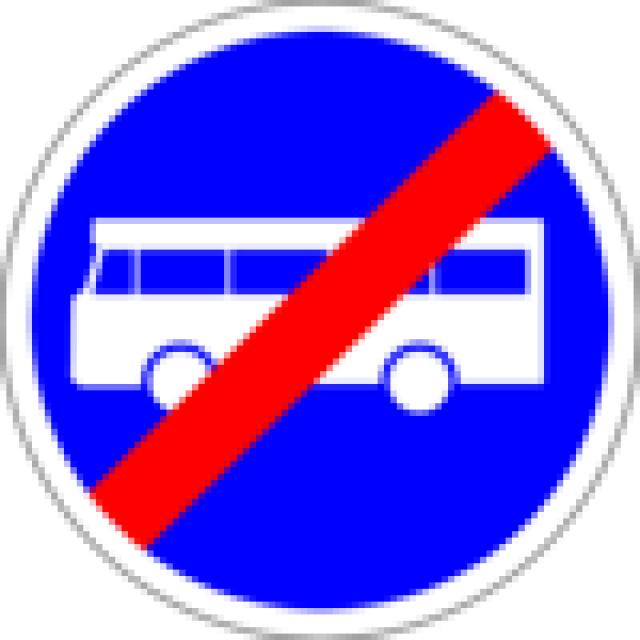end_indication: (0, 0, 636, 639)
